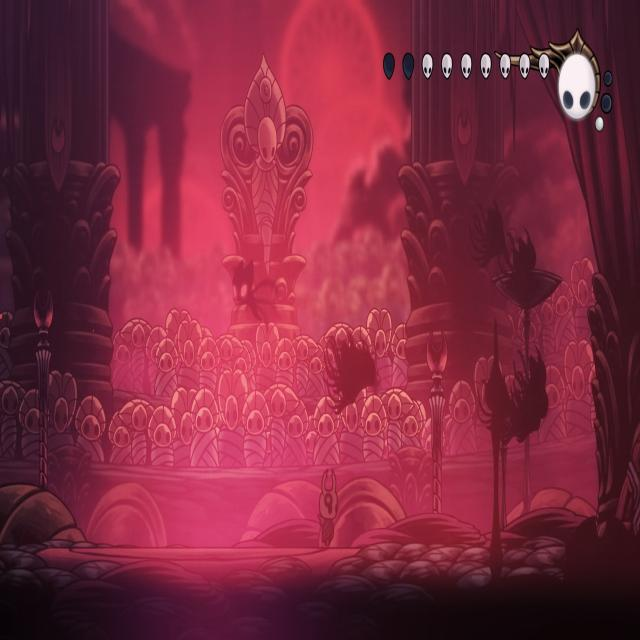Player: (314, 466, 339, 549)
Staggered_Grimm: (232, 253, 281, 326)
